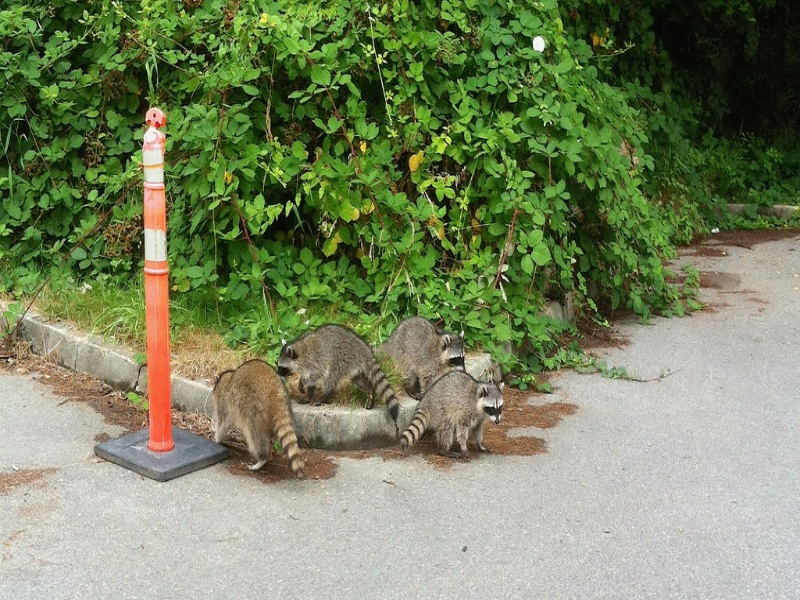raccoon: (278, 323, 399, 424), (211, 359, 308, 483), (401, 372, 509, 462), (374, 319, 469, 399)
